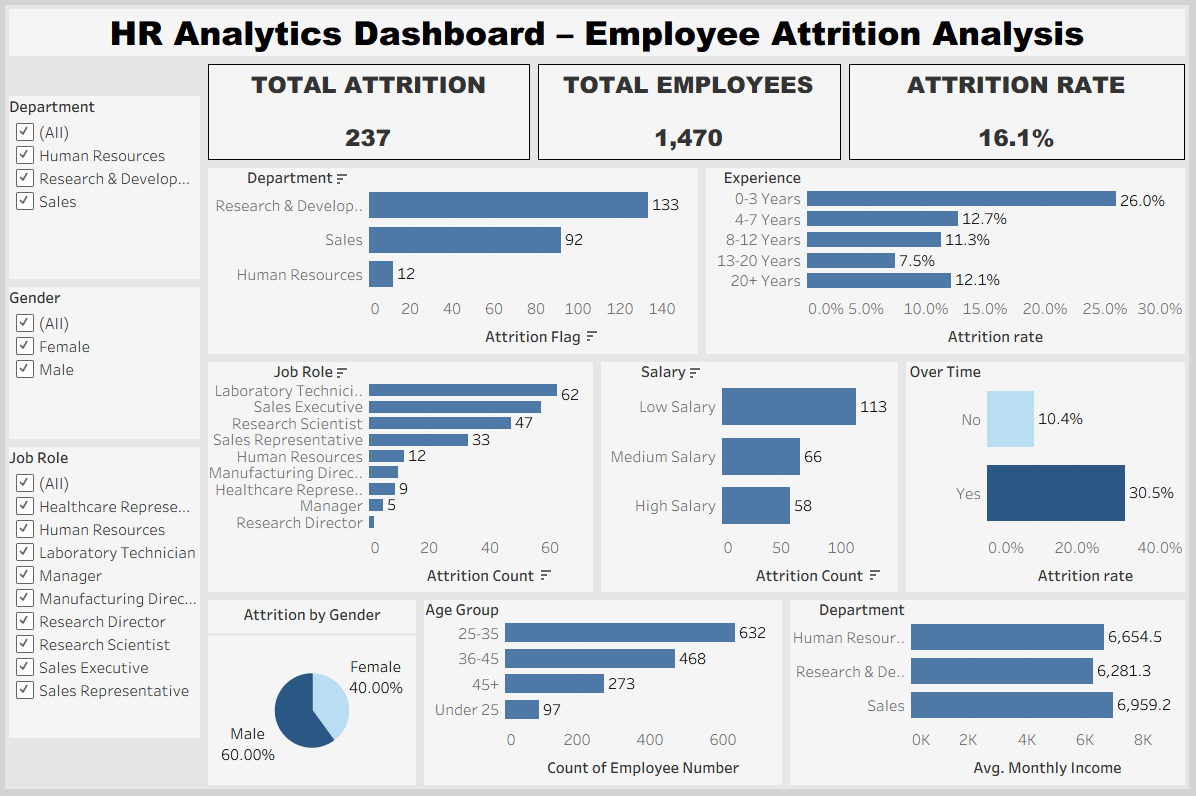

The dashboard page shown, as its layout file describes it:
{"tool":"tableau","page":{"name":"Dashboard 1","canvas":[1200,800],"ordinal":0},"visuals":[{"type":"title","box":[8,8,1184,55]},{"type":"worksheet","title":"KPI_Attrition","mark":"Automatic","box":[207,63,330,104.3]},{"type":"worksheet","title":"KPI – Total Employees","mark":"Automatic","box":[537,63,311,104.3]},{"type":"worksheet","title":"KPI_Attrition Rate","mark":"Automatic","box":[848,63,344,104.3]},{"type":"filter","title":"Department-wise Attrition","param":"[federated.19usn4h0yon02m1bqac8r0fgnjzl].[none:Department:nk]","box":[8,95,199,191]},{"type":"worksheet","title":"Department-wise Attrition","mark":"Bar","rows":["Department"],"cols":["Calculation_2498952660979713"],"box":[207,167.3,498,193.5]},{"type":"worksheet","title":"Experience vs Attrition","mark":"Bar","rows":["Calculation_2498952666537989"],"cols":["Calculation_2498952661368835"],"box":[705,167.3,487,193.5]},{"type":"filter","title":"Department-wise Attrition","param":"[federated.19usn4h0yon02m1bqac8r0fgnjzl].[none:Gender:nk]","box":[8,286,199,160]},{"type":"worksheet","title":"Attrition Count","mark":"Automatic","rows":["JobRole"],"cols":["Calculation_2498952702468103"],"box":[207,360.8,393,238.7]},{"type":"worksheet","title":" Attrition Rate by Salary Slab","mark":"Automatic","rows":["Calculation_2498952707723272"],"cols":["Calculation_2498952702468103"],"box":[600,360.8,305,238.7]},{"type":"worksheet","title":"Sheet 12","mark":"Bar","rows":["OverTime"],"cols":["Calculation_2498952661368835"],"box":[905,360.8,287,238.7]},{"type":"filter","title":"Department-wise Attrition","param":"[federated.19usn4h0yon02m1bqac8r0fgnjzl].[none:JobRole:nk]","box":[8,446,199,299]},{"type":"worksheet","title":"Gender Distribution","mark":"Pie","box":[207,599.5,215.7,192.5]},{"type":"worksheet","title":"Age Group Distribution","mark":"Bar","rows":["Calculation_2498952661643268"],"cols":["EmployeeNumber"],"box":[422.7,599.5,366,192.5]},{"type":"worksheet","title":"Salary by Department","mark":"Automatic","rows":["Department"],"cols":["MonthlyIncome"],"box":[788.7,599.5,403.3,192.5]}]}

Visuals, with their boxes in screenshot pixels (x1, y1, x2, y2), scaled from the page's 1200x800 canvas onto the 1196x796 screenshot:
title: detection(8, 8, 1188, 63)
"KPI_Attrition" worksheet: detection(206, 63, 535, 166)
"KPI – Total Employees" worksheet: detection(535, 63, 845, 166)
"KPI_Attrition Rate" worksheet: detection(845, 63, 1188, 166)
"Department-wise Attrition" filter: detection(8, 95, 206, 285)
"Department-wise Attrition" worksheet (Bar marks): detection(206, 166, 703, 359)
"Experience vs Attrition" worksheet (Bar marks): detection(703, 166, 1188, 359)
"Department-wise Attrition" filter: detection(8, 285, 206, 444)
"Attrition Count" worksheet: detection(206, 359, 598, 597)
" Attrition Rate by Salary Slab" worksheet: detection(598, 359, 902, 597)
"Sheet 12" worksheet (Bar marks): detection(902, 359, 1188, 597)
"Department-wise Attrition" filter: detection(8, 444, 206, 741)
"Gender Distribution" worksheet (Pie marks): detection(206, 597, 421, 788)
"Age Group Distribution" worksheet (Bar marks): detection(421, 597, 786, 788)
"Salary by Department" worksheet: detection(786, 597, 1188, 788)
